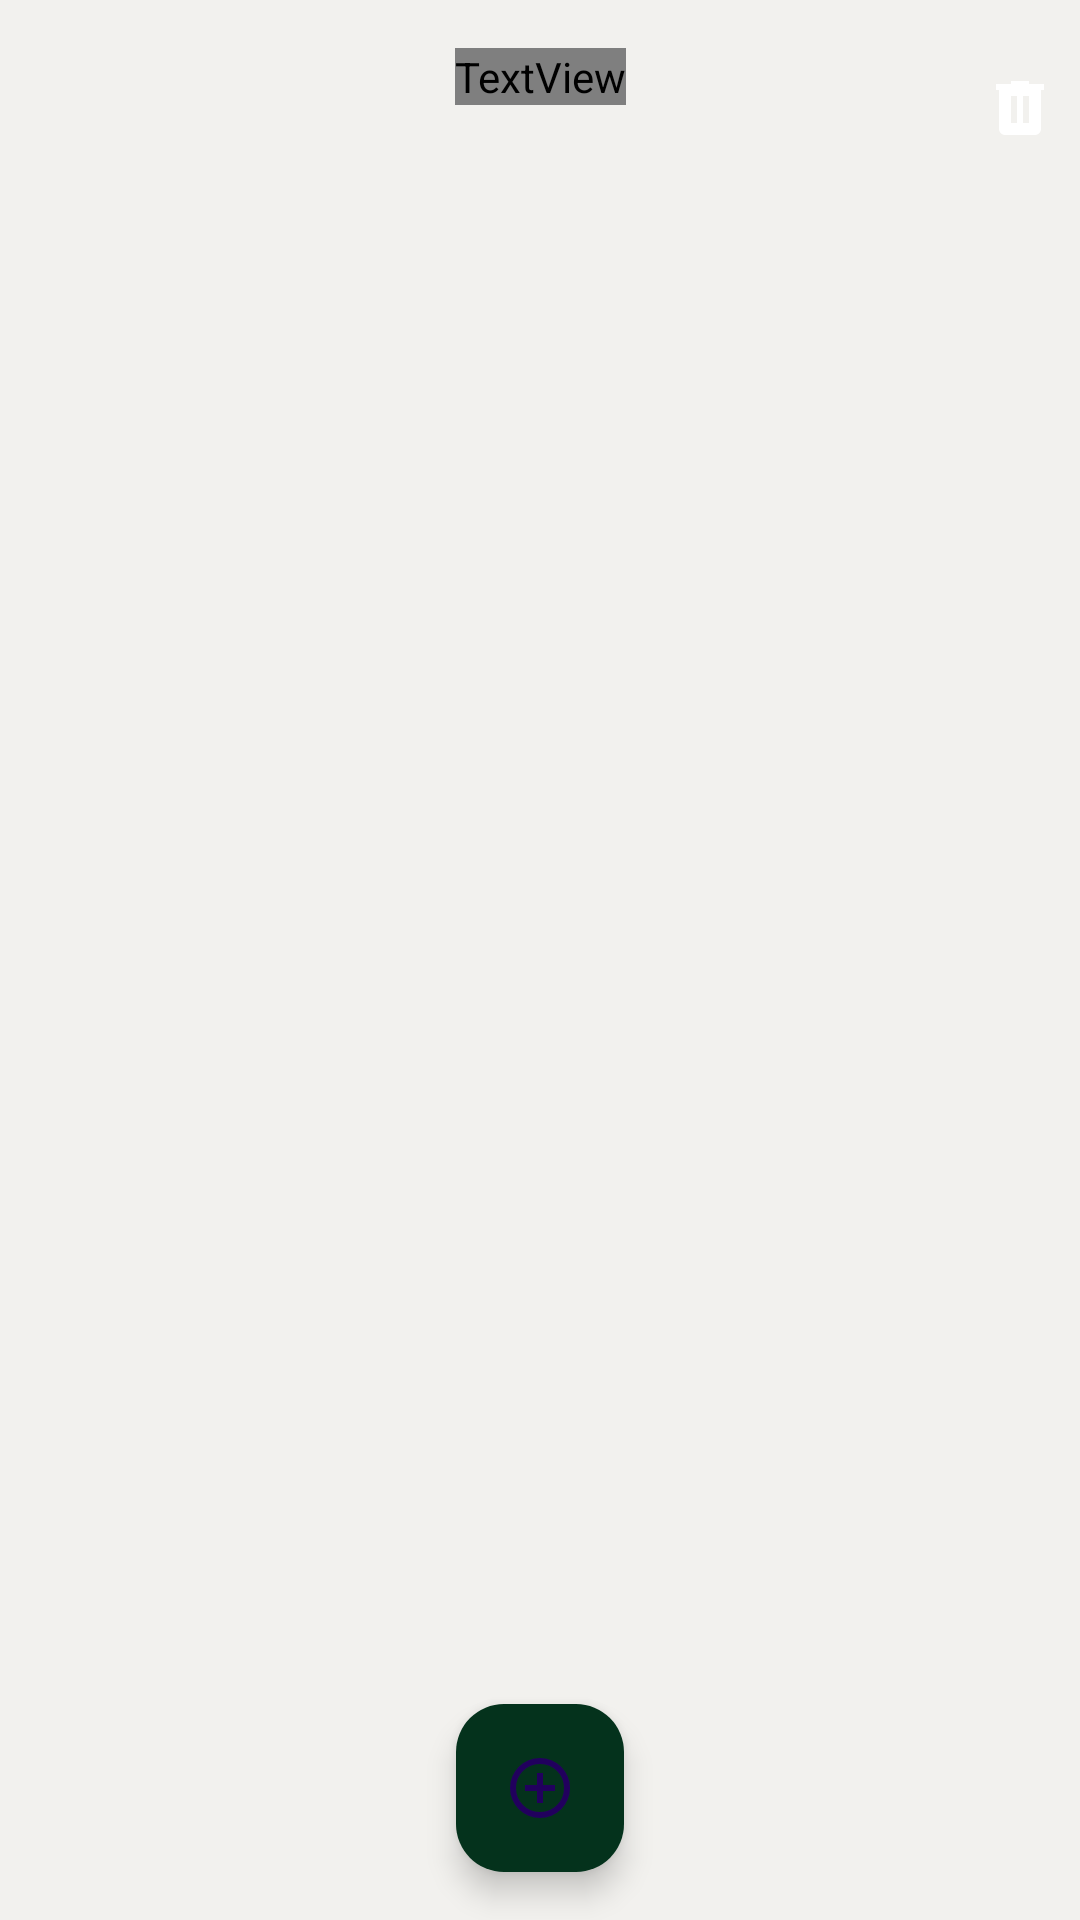

Icon bounding boxes for this 1080px x 1920px phone screenshot, format rect(x1, y1, x2, y2):
Add Task: rect(456, 1704, 624, 1872)
